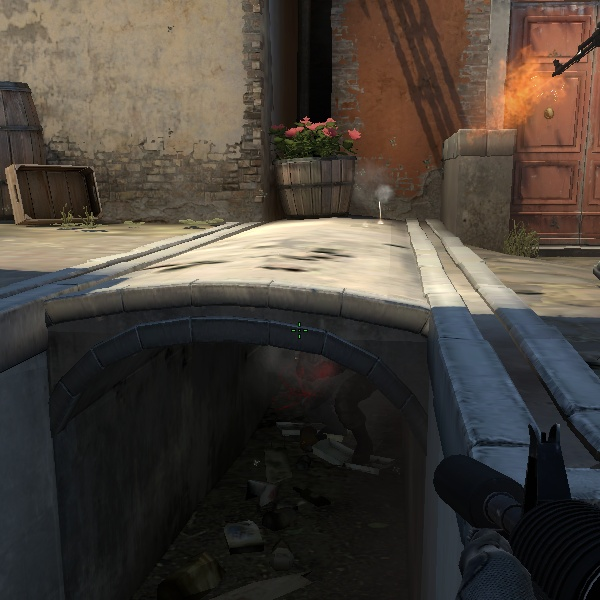t_body: (34, 3, 600, 593)
